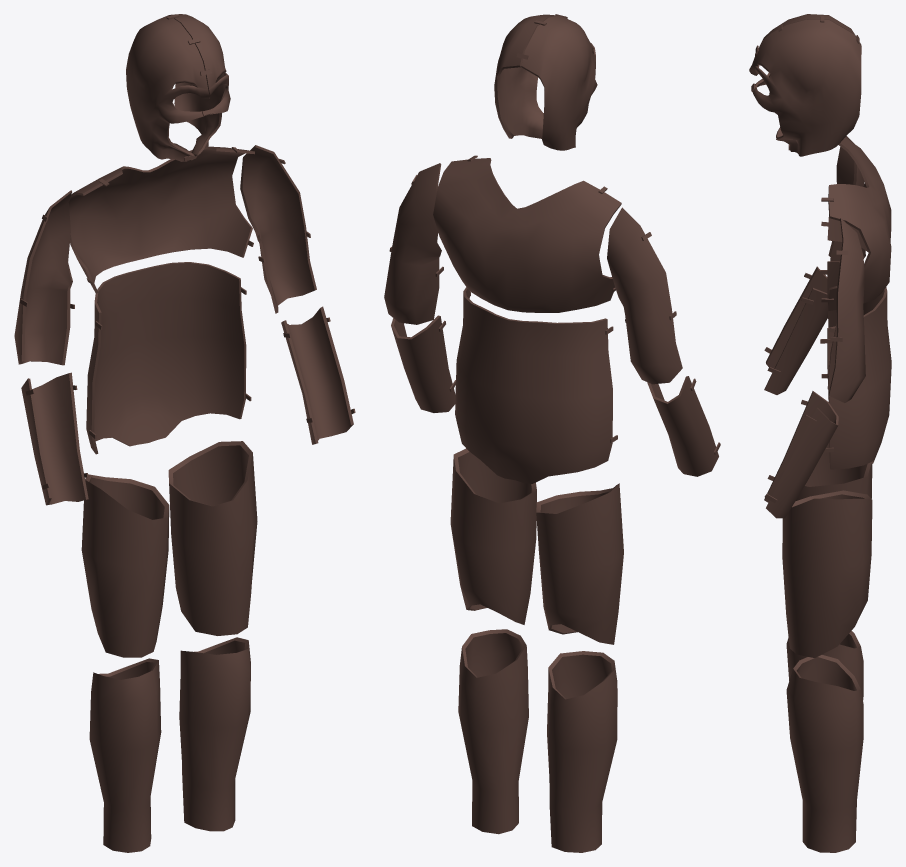
The model's file is JustShells.fbx.
3 views of the same model, side by side, from view 1: azimuth 30°, elevation 25°; view 2: azimuth 150°, elevation 25°; view 3: azimuth 270°, elevation 25° (orthographic).
Visible parts, largest first — view 1: Circle.002; view 2: Circle.002; view 3: Circle.002.
Boxes of the visible parts, box(x1,y1,x2,y2) form: Circle.002: box(14, 14, 355, 852); Circle.002: box(384, 14, 720, 852); Circle.002: box(749, 14, 891, 852).
Size of the model in its own units: 66.04 by 168 by 26.98.
